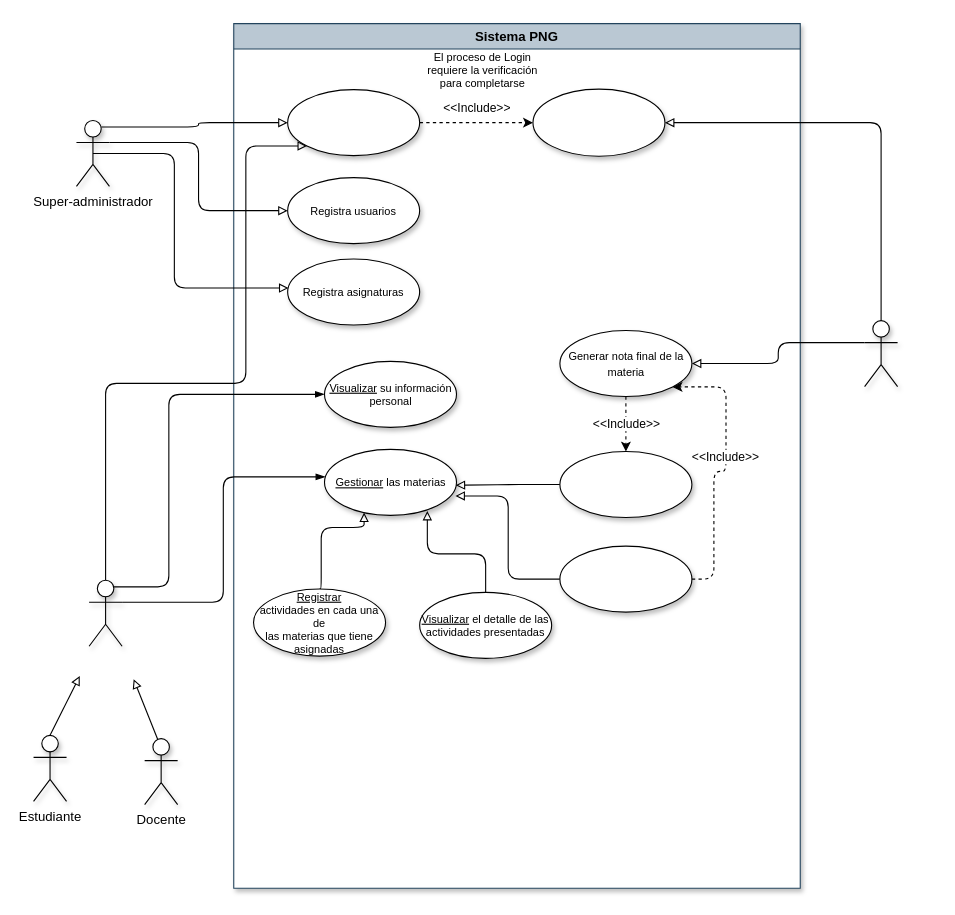
Some shapes in this 955 by 915 pixel diagram are drawn without their labels. The centre of each missing label's shape, as x and y in pixels:
Calificar dichas actividades y realimentar: the point at 626,485
EAN <<Sistema>>: the point at 881,354
Login: the point at 354,123
Usuario: the point at 106,614
Validar datos de acceso: the point at 599,124
Visualizar la nota obtenida en cada materia: the point at 626,580
